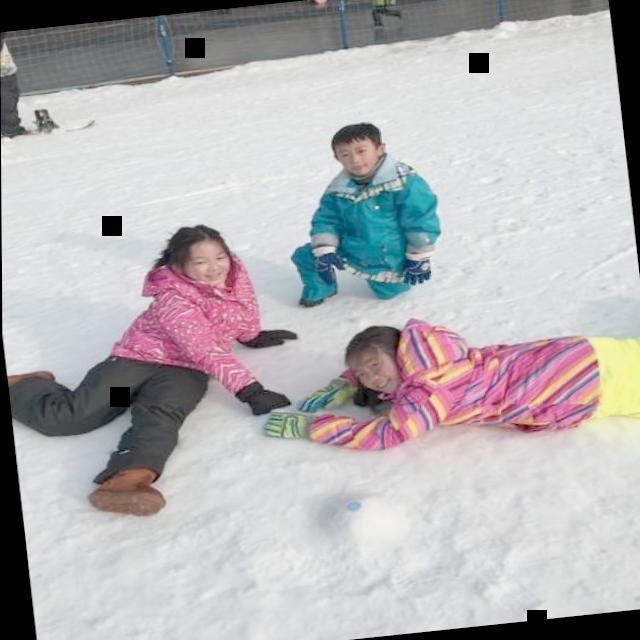Fall-Detected: (281, 290, 640, 479)
